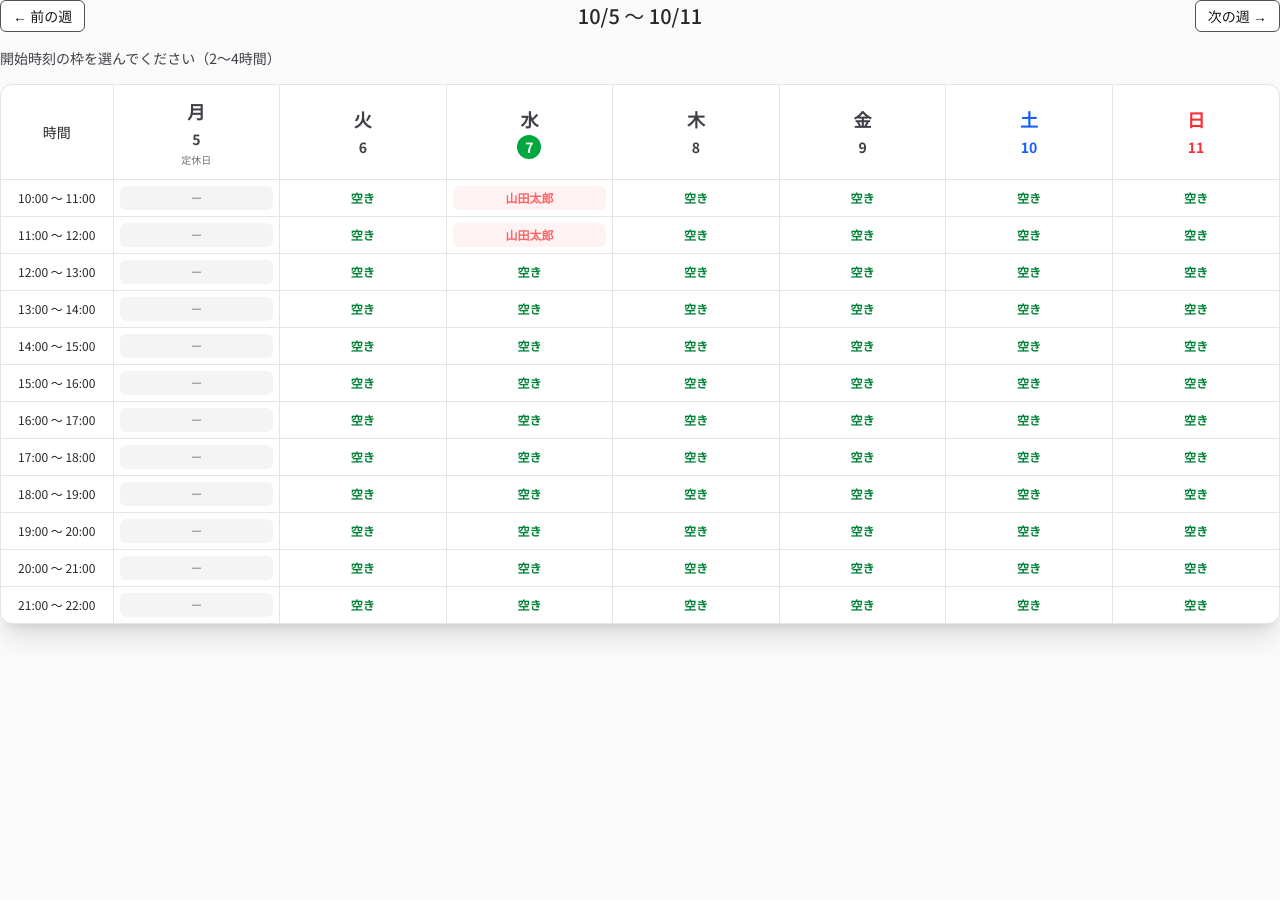
it: 予約の詳細 › キャンセルできたら閉じて、取り直したカレンダーから消える
The image size is (1280, 900).
Click the button with aria-label "10月7日（水） 10:00 〜 11:00 山田太郎 さんの予約": (529, 198) [453,186,606,210]
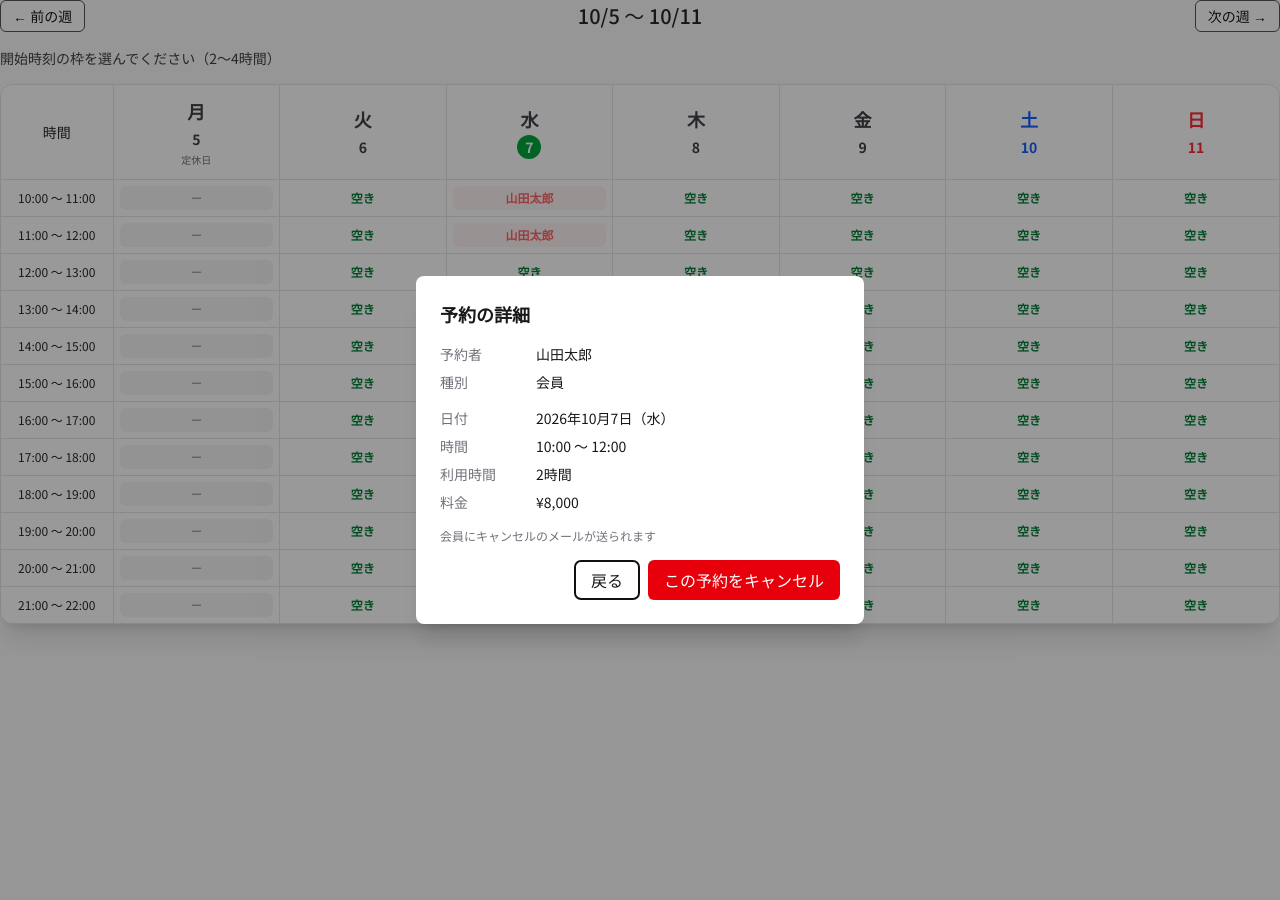
Click the button "この予約をキャンセル": (744, 580) [648,560,840,600]
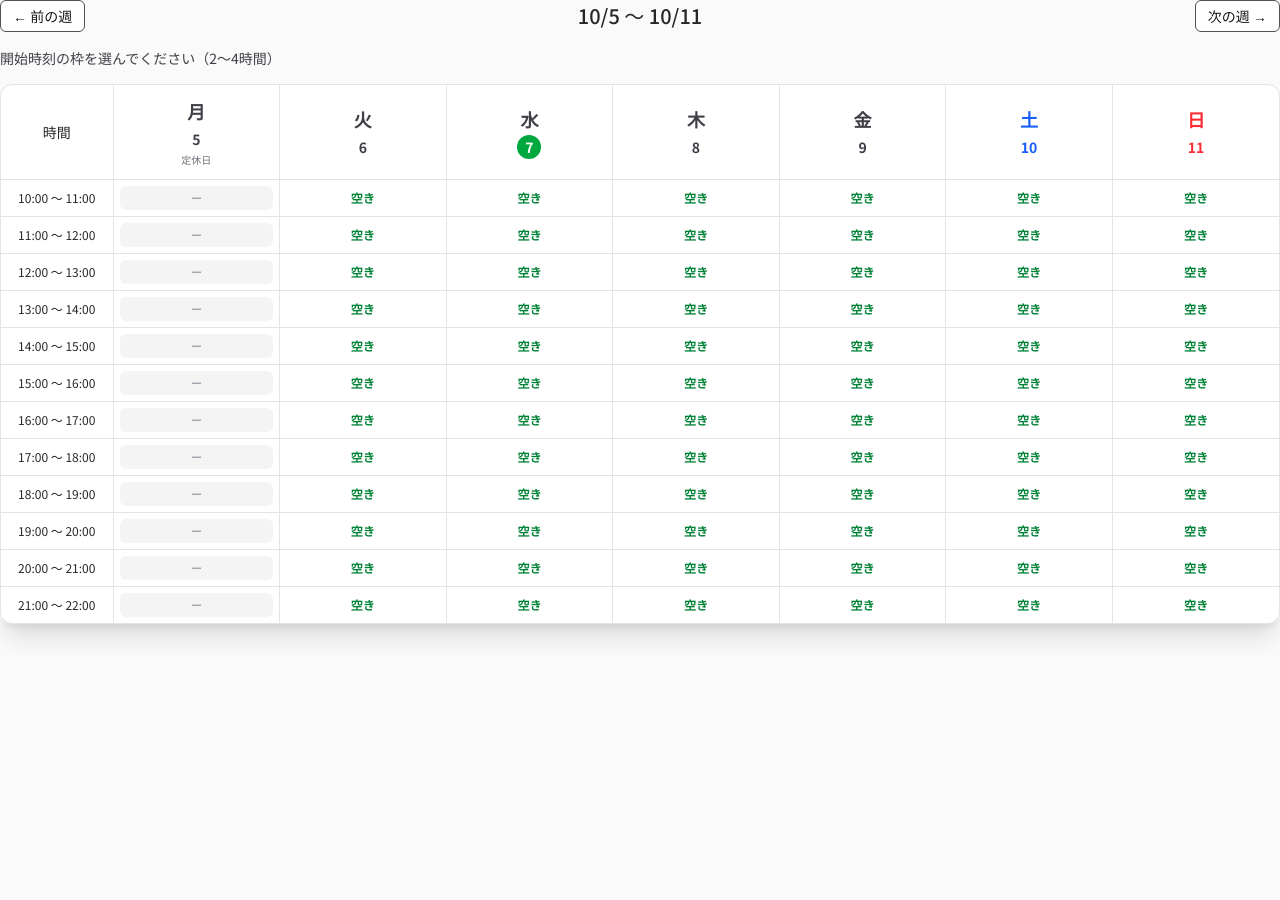
Check: the dialog is gone
Check: the button with aria-label "10月7日（水） 10:00 〜 11:00 空き" is shown, box [453,186,606,210]
